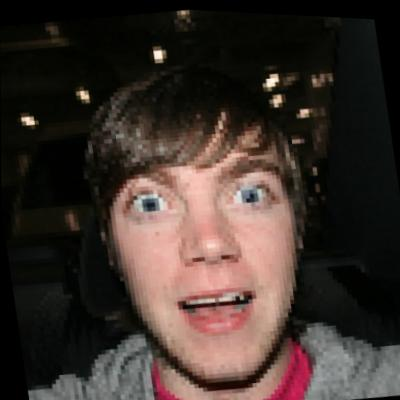surprise: (96, 106, 308, 391)
